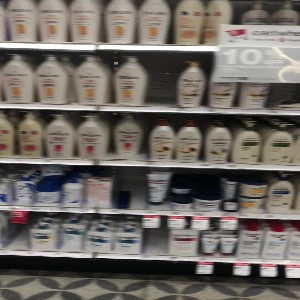void: (142, 52, 178, 106), (116, 166, 148, 209), (3, 212, 31, 250), (143, 218, 168, 255)
